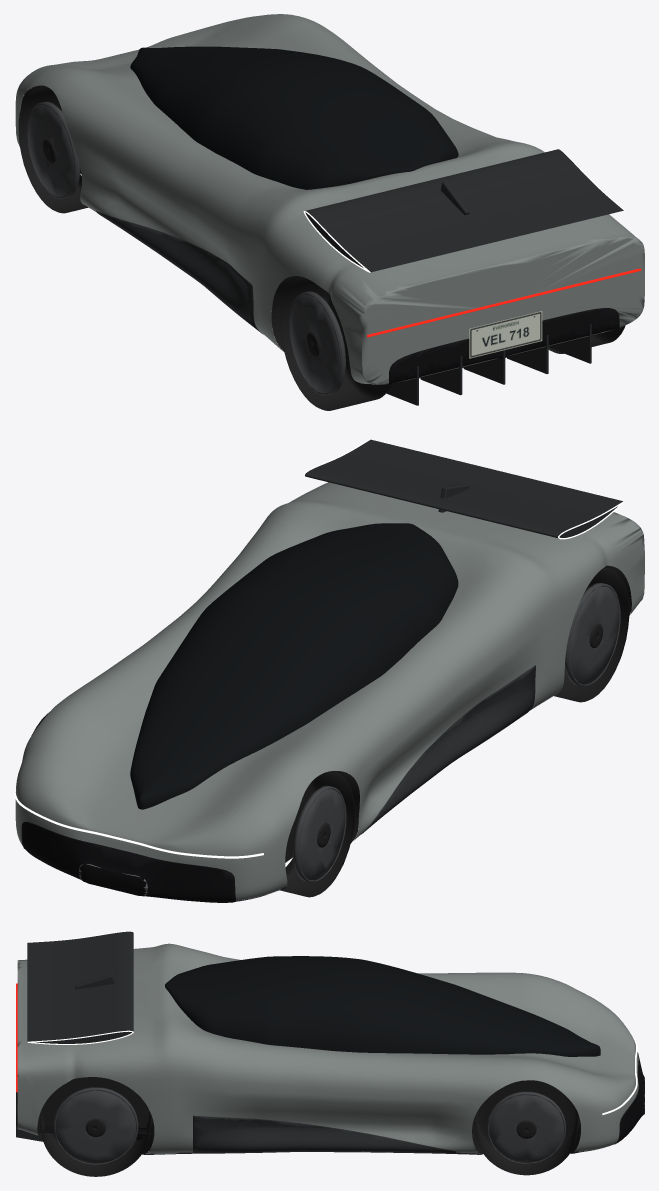
File: hyper.glb
The picture shows the model from 3 angles, top to bottom: view 1: azimuth 30°, elevation 25°; view 2: azimuth 150°, elevation 25°; view 3: azimuth 270°, elevation 25°; orthographic projection. The views are drawn at different scales.
Visible parts, largest first — view 1: body, wheel_rl, wheel_fl, Registration; view 2: body, wheel_rl, wheel_fl; view 3: body, wheel_rr, wheel_fr.
Boxes of the visible parts, left/top/right/bottom form: body: left=14, top=14, right=644, bottom=405; wheel_rl: left=280, top=277, right=391, bottom=410; wheel_fl: left=18, top=86, right=88, bottom=213; Registration: left=469, top=311, right=542, bottom=358; body: left=14, top=439, right=644, bottom=902; wheel_rl: left=554, top=567, right=629, bottom=702; wheel_fl: left=280, top=771, right=354, bottom=897; body: left=16, top=931, right=644, bottom=1154; wheel_rr: left=41, top=1087, right=150, bottom=1176; wheel_fr: left=475, top=1087, right=577, bottom=1175.
Size of the model in its own units: 1.75 by 1.07 by 4.04.
Materials: 10 (1 with a texture image).
